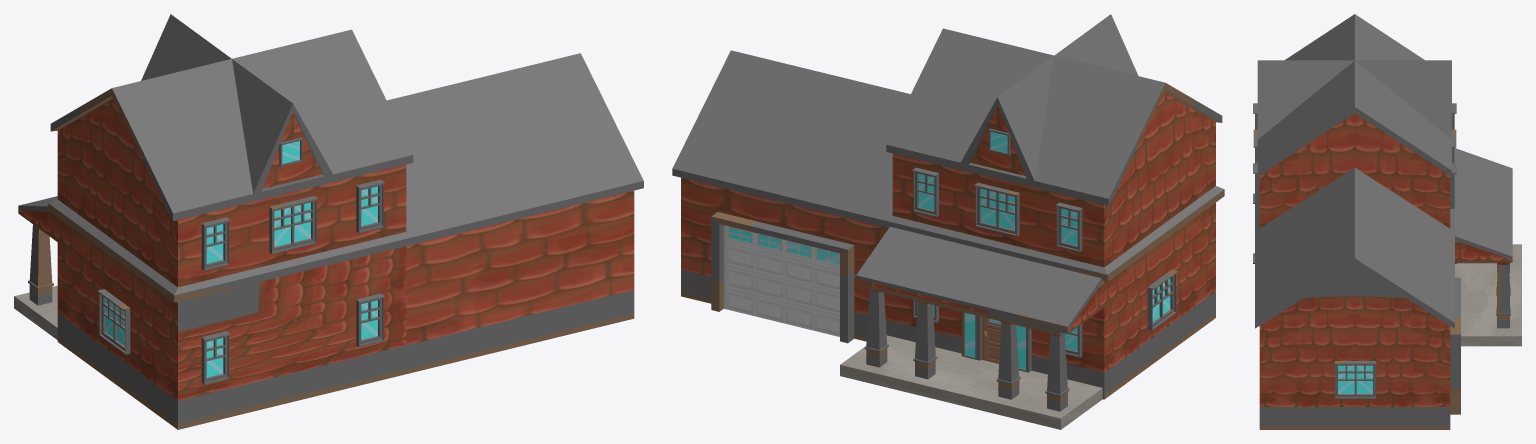
File: house1.fbx
The picture shows the model from 3 angles, left to right: view 1: azimuth 30°, elevation 25°; view 2: azimuth 150°, elevation 25°; view 3: azimuth 270°, elevation 25°; orthographic projection. The views are drawn at different scales.
Visible parts, largest first — view 1: House_1; view 2: House_1; view 3: House_1.
Boxes of the visible parts, box(x1,y1,x2,y2) form: House_1: box(14, 14, 643, 429); House_1: box(672, 14, 1224, 429); House_1: box(1253, 14, 1521, 429).
Bounding box in the file's own units: 2051 × 1247 × 1281.
